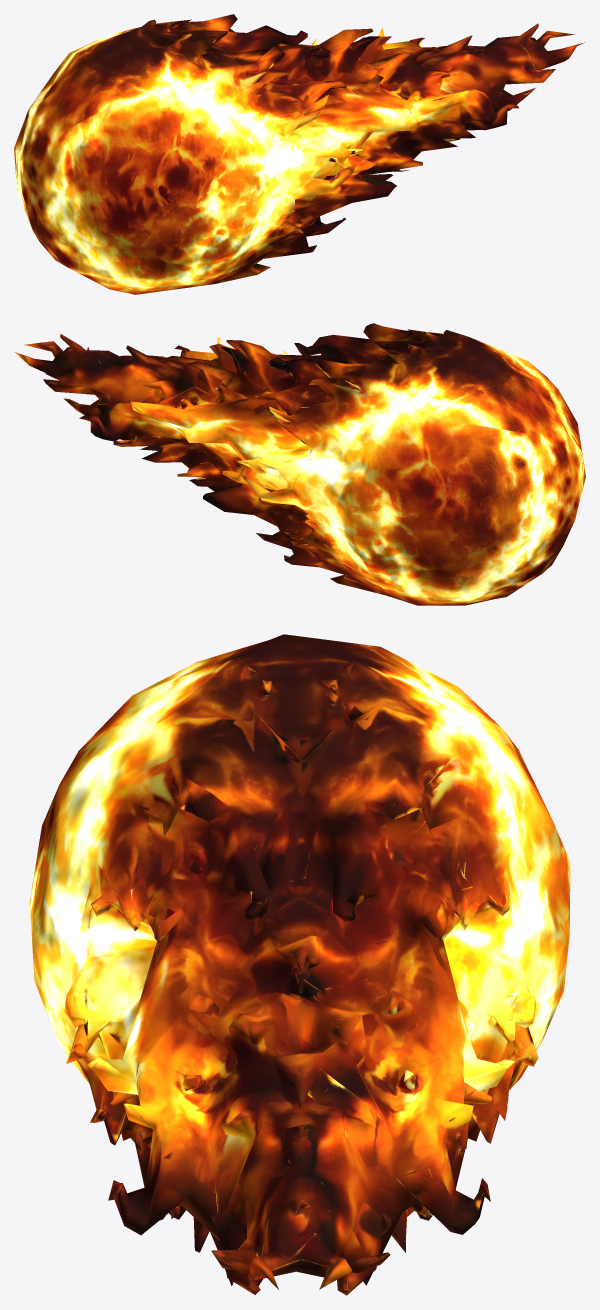
Rendered from Frost.glb.
3 views of the same model, one above another, from view 1: azimuth 30°, elevation 25°; view 2: azimuth 150°, elevation 25°; view 3: azimuth 270°, elevation 25° (orthographic). The views are drawn at different scales.
Visible parts, largest first — view 1: Mesh1.0; view 2: Mesh1.0; view 3: Mesh1.0.
Boxes of the visible parts, <box> form: Mesh1.0: <box>14,14,584,294</box>; Mesh1.0: <box>14,323,585,605</box>; Mesh1.0: <box>29,634,570,1295</box>.
Size of the model in its own units: 1.9 by 0.8378 by 0.8135.
Materials: 1 (1 with a texture image).
